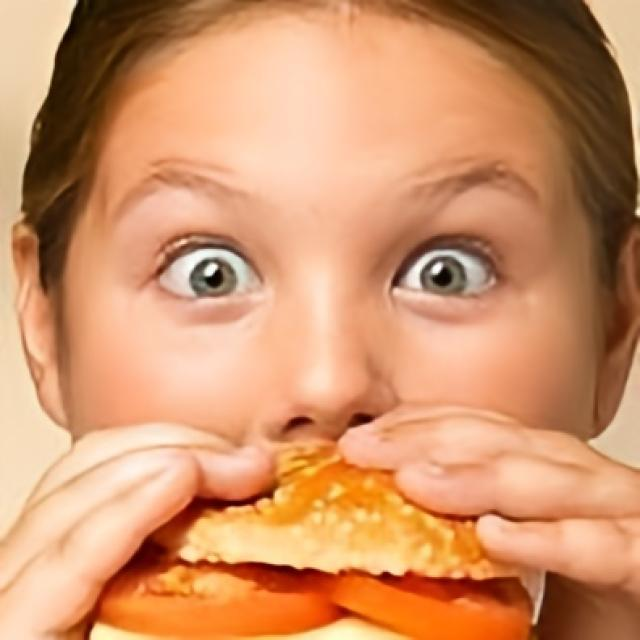surprise: (61, 0, 600, 640)
